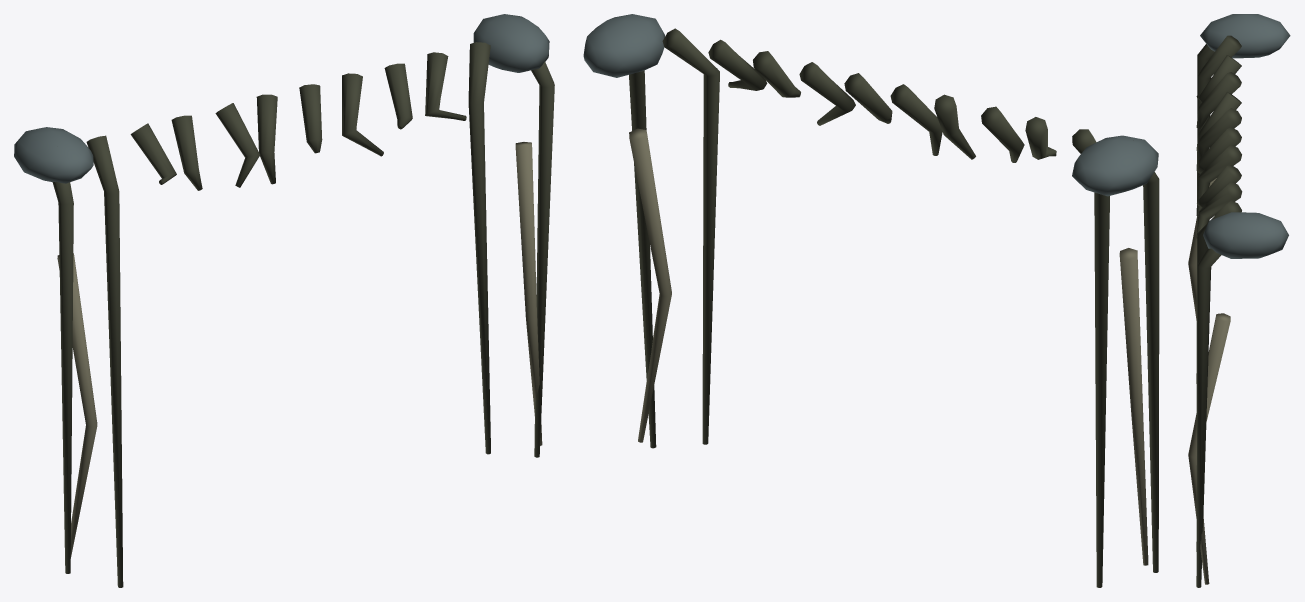
The model's file is curtain-opened.glb.
3 renders of one model, left to right at view 1: azimuth 30°, elevation 25°; view 2: azimuth 150°, elevation 25°; view 3: azimuth 270°, elevation 25°, orthographic. The views are drawn at different scales.
Parts seen in each view (by area): view 1: Surface; view 2: Surface; view 3: Surface.
Boxes of the visible parts, x1,y1,x2,y2 form: Surface: (14, 14, 554, 587); Surface: (583, 14, 1159, 587); Surface: (1188, 14, 1290, 587).
Bounding box in the file's own units: 1.95 × 1.6 × 0.3723.
